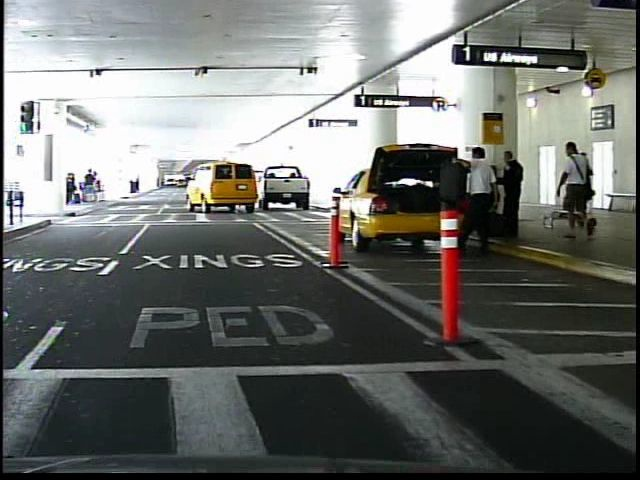person: (550, 138, 594, 240)
